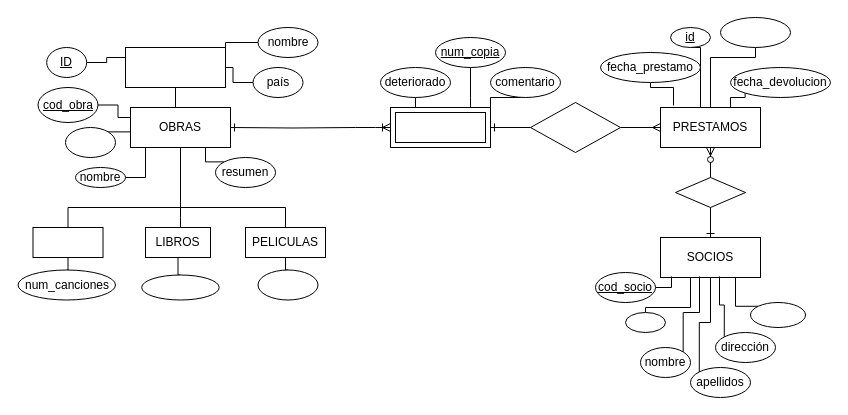
The diagram is 848 pixels wide and 415 high, and some of its shapes have lost their labels. The shapes that lost their labels are listed below. From the top down, each one's centre as x and y in pixels, then its label:
At [755,32]: "fecha_max".
At [175,67]: "AUTORES".
At [90,142]: "año".
At [440,127]: "COPIAS".
At [575,127]: "prestar".
At [710,192]: "hacer".
At [67,242]: "CD's".
At [180,287]: "num_paginas".
At [287,284]: "duración".
At [645,322]: "DNI".
At [778,315]: "teléfono".
